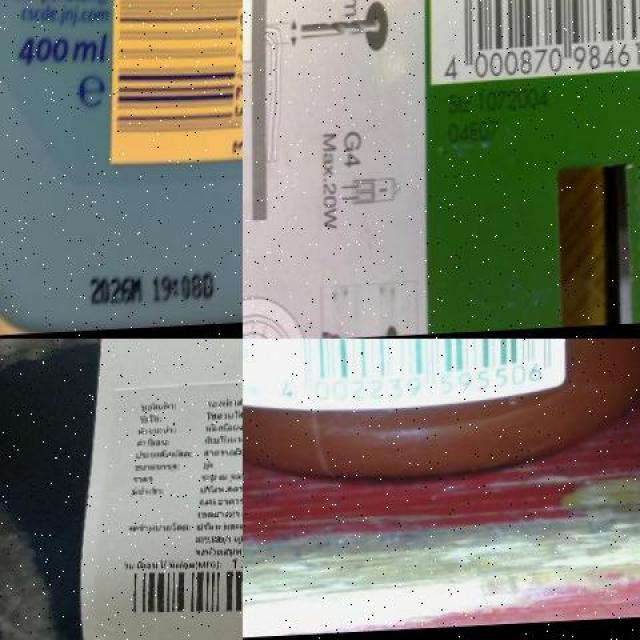Barcode: (105, 0, 243, 168), (276, 339, 556, 409), (425, 0, 639, 81), (117, 550, 242, 640)
